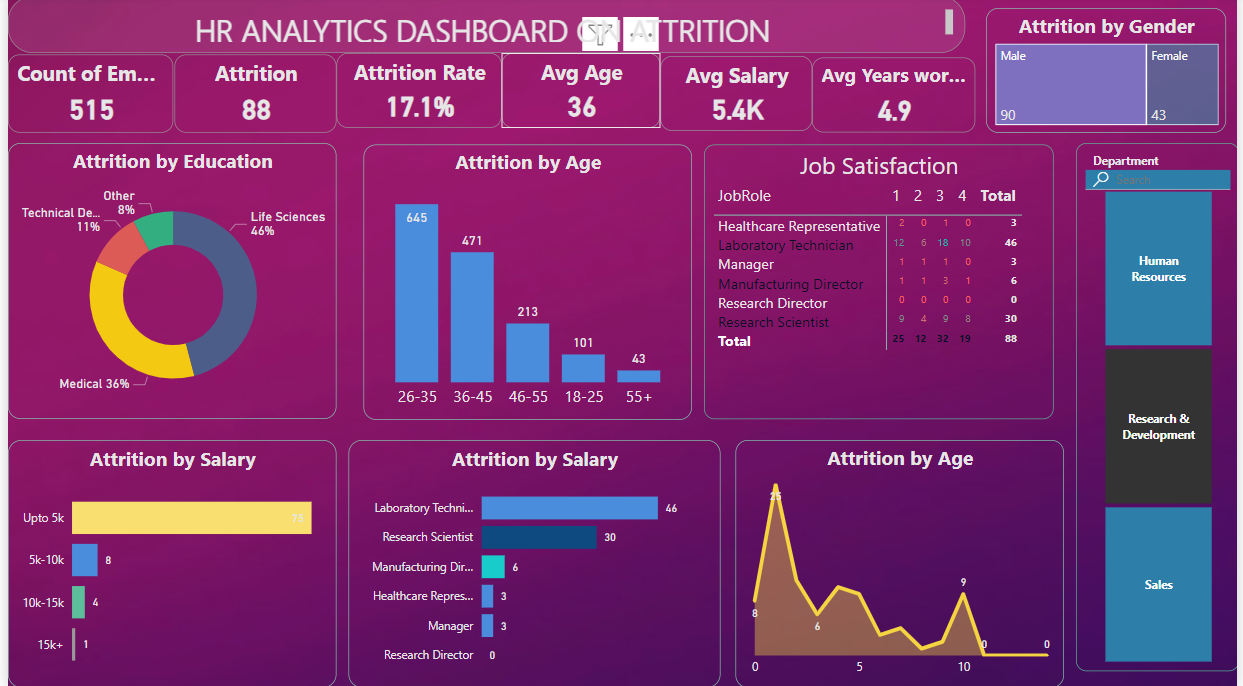

What the dashboard file says about the page in this screenshot:
{"tool":"powerbi","page":{"name":"Page 1","canvas":[1280,720],"ordinal":0},"visuals":[{"type":"card","title":"Attrition","fields":{"Values":["Sum(HR_Analytics.AttritionCount)"]},"box":[173.4,60.9,168.7,81.2],"z":0},{"type":"card","title":"Attrition Rate","fields":{"Values":["HR_Analytics.AttritionRate"]},"box":[342,59.3,171.8,78.1],"z":1000},{"type":"card","title":"Avg Age","fields":{"Values":["Avg(HR_Analytics.Age)"]},"box":[513.8,59.3,165.6,78.1],"z":2000},{"type":"card","title":"Avg Salary","fields":{"Values":["Avg(HR_Analytics.MonthlyIncome)"]},"box":[679.4,62.5,157.7,78.1],"z":3000},{"type":"card","title":"Avg Years worked","fields":{"Values":["Avg(HR_Analytics.YearsAtCompany)"]},"box":[837.1,64,170.2,78.1],"z":4000},{"type":"card","title":"Count of Employee","fields":{"Values":["Sum(HR_Analytics.EmployeeCount)"]},"box":[0,60.9,171.8,81.2],"z":5000},{"type":"donutChart","title":"Attrition by Education","fields":{"Category":["HR_Analytics.EducationField"],"Y":["Sum(HR_Analytics.Education)"]},"box":[0.2,152.4,342,287.4],"z":6000},{"type":"columnChart","title":"Attrition by Age","fields":{"Category":["HR_Analytics.AgeGroup"],"Y":["Sum(HR_Analytics.Education)"]},"box":[370.3,154.2,341.7,287],"z":7000},{"type":"pivotTable","title":"Job Satisfaction","fields":{"Rows":["HR_Analytics.JobRole"],"Columns":["HR_Analytics.JobSatisfaction"],"Values":["Sum(HR_Analytics.AttritionCount)"]},"box":[724.9,154,363.9,285.8],"z":8000},{"type":"barChart","title":"Attrition by Salary","fields":{"Category":["HR_Analytics.SalarySlab"],"Y":["Sum(HR_Analytics.AttritionCount)"]},"box":[0.2,461.7,342,257.7],"z":9000},{"type":"barChart","title":"Attrition by Salary","fields":{"Y":["Sum(HR_Analytics.AttritionCount)"],"Category":["HR_Analytics.JobRole"]},"box":[354.8,461.7,387.3,257.7],"z":10000},{"type":"areaChart","title":"Attrition by Age","fields":{"Category":["HR_Analytics.YearsAtCompany"],"Y":["Sum(HR_Analytics.AttritionCount)"]},"box":[757.7,461.7,342,257.7],"z":11000},{"type":"treemap","title":"Attrition by Gender","fields":{"Values":["Sum(HR_Analytics.AttritionCount)"],"Group":["HR_Analytics.Gender"]},"box":[1018.8,12.5,250,130],"z":12000},{"type":"slicer","fields":{"Values":["HR_Analytics.Department"]},"box":[1111.2,152.5,170,550],"z":13000},{"type":"textbox","box":[0,0,996.4,59.3],"z":14000}]}

Visuals, with their boxes in screenshot pixels (x1, y1, x2, y2), scaled from the page's 1280x720 canvas onto the 1243x686 screenshot:
"Attrition" card: {"left": 168, "top": 58, "right": 332, "bottom": 135}
"Attrition Rate" card: {"left": 332, "top": 56, "right": 499, "bottom": 131}
"Avg Age" card: {"left": 499, "top": 56, "right": 660, "bottom": 131}
"Avg Salary" card: {"left": 660, "top": 60, "right": 813, "bottom": 134}
"Avg Years worked" card: {"left": 813, "top": 61, "right": 978, "bottom": 135}
"Count of Employee" card: {"left": 0, "top": 58, "right": 167, "bottom": 135}
"Attrition by Education" donutChart: {"left": 0, "top": 145, "right": 332, "bottom": 419}
"Attrition by Age" columnChart: {"left": 360, "top": 147, "right": 691, "bottom": 420}
"Job Satisfaction" pivotTable: {"left": 704, "top": 147, "right": 1057, "bottom": 419}
"Attrition by Salary" barChart: {"left": 0, "top": 440, "right": 332, "bottom": 685}
"Attrition by Salary" barChart: {"left": 345, "top": 440, "right": 721, "bottom": 685}
"Attrition by Age" areaChart: {"left": 736, "top": 440, "right": 1068, "bottom": 685}
"Attrition by Gender" treemap: {"left": 989, "top": 12, "right": 1232, "bottom": 136}
slicer - HR_Analytics.Department: {"left": 1079, "top": 145, "right": 1242, "bottom": 669}
textbox: {"left": 0, "top": 0, "right": 968, "bottom": 56}
